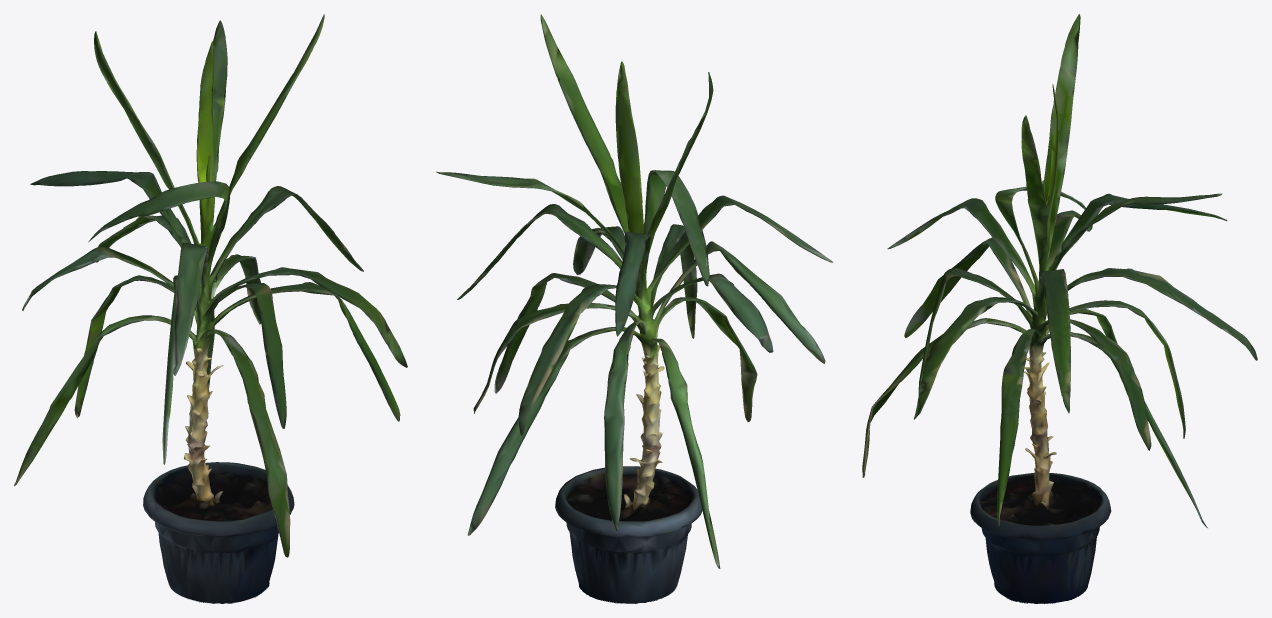
File: potted_plant_03.glb
3 renders of one model, left to right at view 1: azimuth 30°, elevation 25°; view 2: azimuth 150°, elevation 25°; view 3: azimuth 270°, elevation 25°, orthographic. The views are drawn at different scales.
Parts seen in each view (by area): view 1: Object_4; view 2: Object_4; view 3: Object_4.
Part boxes in pixels (x1=…): Object_4: x1=14, y1=14, x2=407, y2=603; Object_4: x1=436, y1=14, x2=833, y2=603; Object_4: x1=862, y1=14, x2=1257, y2=603.
Bounding box in the file's own units: 2.32 × 3.74 × 2.56.
